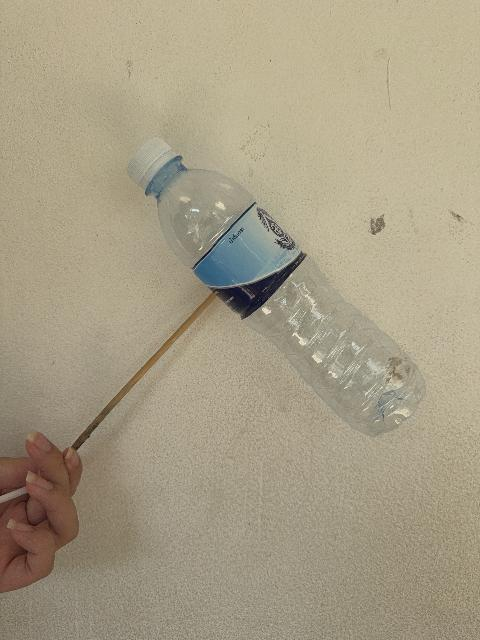bottle: (128, 139, 424, 435)
